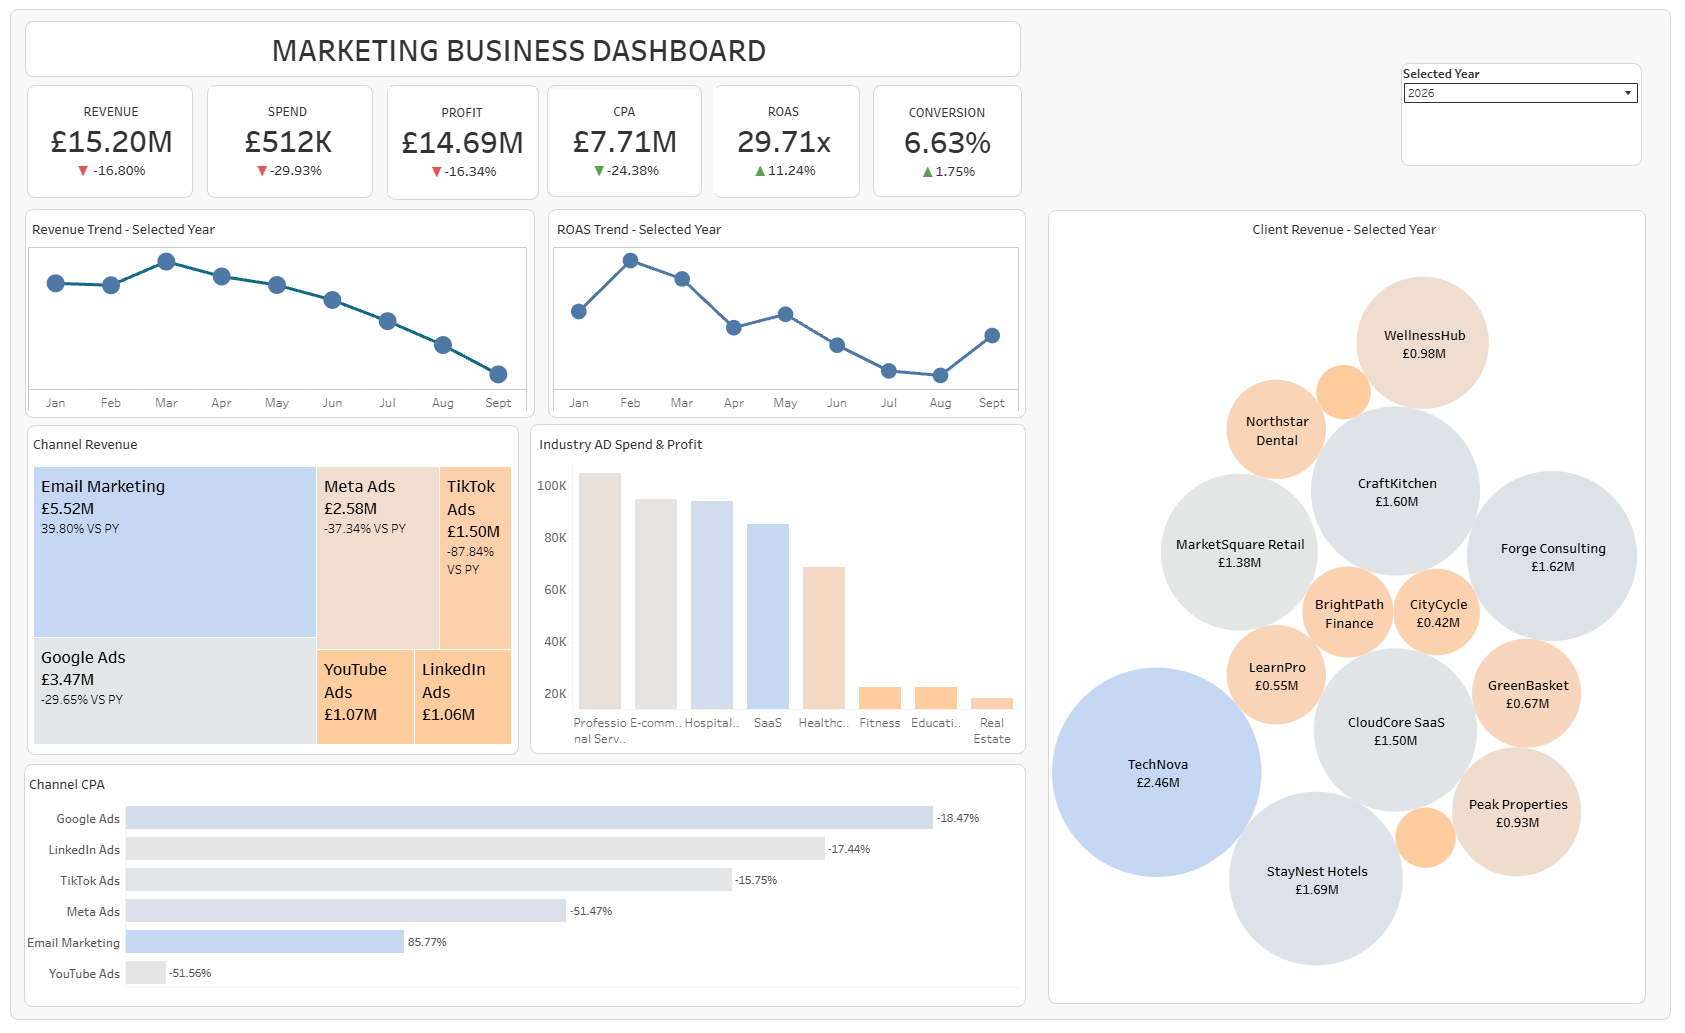

The page's visual inventory and layout, read from the dashboard file:
{"tool":"tableau","page":{"name":"Dashboard 1","canvas":[1000,1000],"units":"permille","ordinal":0},"visuals":[{"type":"worksheet","title":"BC BOX","mark":"Text","box":[0,0,880.6,985.2]},{"type":"text","box":[104.7,34.5,336.4,29.5]},{"type":"parameter","param":"[Parameters].[Parameter 0103128939663360]","box":[733.2,64,122.9,96.5]},{"type":"worksheet","title":"Spend KPI","mark":"Automatic","box":[109.4,81.7,86,109.2]},{"type":"worksheet","title":"Profit KPI","mark":"Automatic","box":[202.5,81.7,81.3,110.2]},{"type":"worksheet","title":"Revenue KPI","mark":"Automatic","box":[17,82.7,86.6,107.3]},{"type":"worksheet","title":"ROAS KPI","mark":"Automatic","box":[372.2,82.7,76.7,107.3]},{"type":"worksheet","title":"CPA KPI","mark":"Automatic","box":[286.7,83.7,81.3,105.3]},{"type":"worksheet","title":"Conversion KPI","mark":"Automatic","box":[456.4,83.7,79,106.3]},{"type":"worksheet","title":"Revenue Trend","mark":"Automatic","rows":["Calculation_0103128940388353","Calculation_0103128940388353"],"cols":["Campaign_Month"],"box":[15.2,201.8,263.9,195.9]},{"type":"worksheet","title":"ROAS Trend","mark":"Automatic","rows":["Calculation_0103128944574477","Calculation_0103128944574477"],"cols":["Campaign_Month"],"box":[288.5,201.8,247.5,195.9]},{"type":"worksheet","title":"Client Revenue","mark":"Circle","box":[548.3,201.8,308.9,750]},{"type":"worksheet","title":"Channel Revenue","mark":"Automatic","box":[15.8,405.5,256.9,312]},{"type":"worksheet","title":"Sheet 14","mark":"Automatic","rows":["Calculation_0103128940863490"],"cols":["Industry"],"box":[279.1,405.5,256.9,312]},{"type":"worksheet","title":"Channel CPA","mark":"Automatic","rows":["Channel"],"cols":["Calculation_0103128946999312"],"box":[13.5,728.4,522.5,228.3]}]}

Visuals, with their boxes on the dashboard's canvas, which has no fixed pixel size, in thousandths of its width and height (x1, y1, x2, y2). These are canvas units, not pixel positions in the 1685x1033 screenshot, which may show the page scaled, cropped or inside an application window:
"BC BOX" worksheet (Text marks): [x1=0, y1=0, x2=881, y2=985]
text: [x1=105, y1=34, x2=441, y2=64]
parameter: [x1=733, y1=64, x2=856, y2=160]
"Spend KPI" worksheet: [x1=109, y1=82, x2=195, y2=191]
"Profit KPI" worksheet: [x1=202, y1=82, x2=284, y2=192]
"Revenue KPI" worksheet: [x1=17, y1=83, x2=104, y2=190]
"ROAS KPI" worksheet: [x1=372, y1=83, x2=449, y2=190]
"CPA KPI" worksheet: [x1=287, y1=84, x2=368, y2=189]
"Conversion KPI" worksheet: [x1=456, y1=84, x2=535, y2=190]
"Revenue Trend" worksheet: [x1=15, y1=202, x2=279, y2=398]
"ROAS Trend" worksheet: [x1=288, y1=202, x2=536, y2=398]
"Client Revenue" worksheet (Circle marks): [x1=548, y1=202, x2=857, y2=952]
"Channel Revenue" worksheet: [x1=16, y1=406, x2=273, y2=718]
"Sheet 14" worksheet: [x1=279, y1=406, x2=536, y2=718]
"Channel CPA" worksheet: [x1=14, y1=728, x2=536, y2=957]
